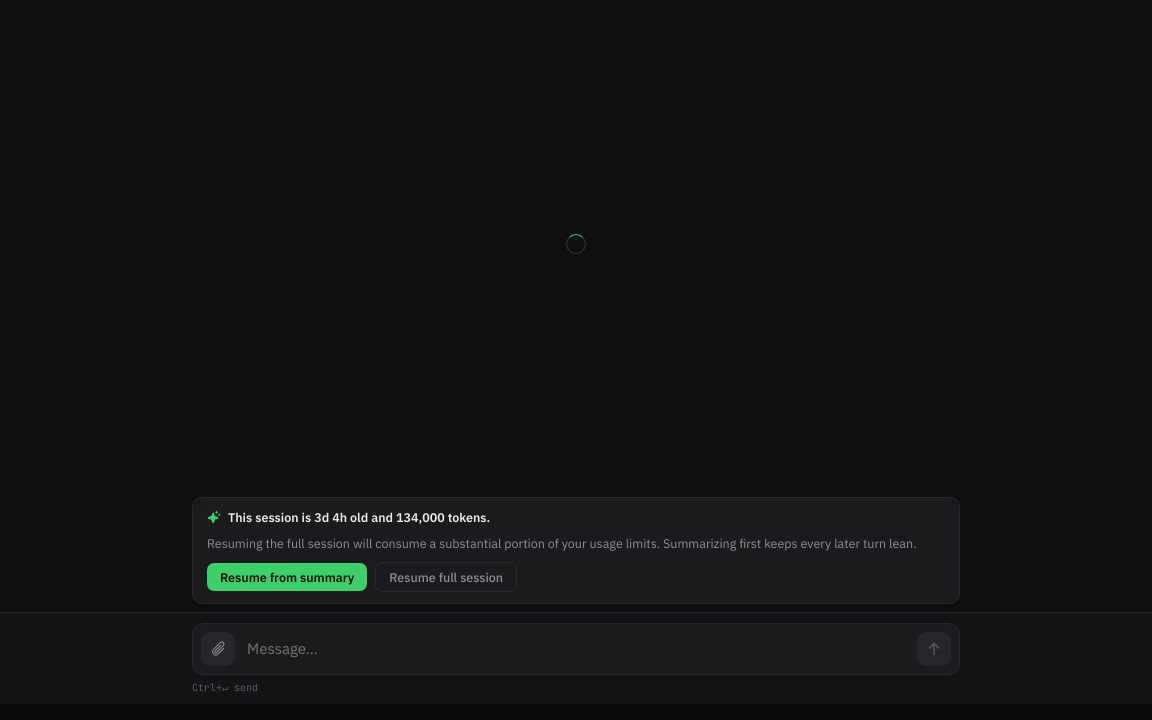
ChatView — resume-from-summary advice › surfaces a visible error when compactTerminal rejects (no live structured session)
The width and height of the screenshot is (1152, 720).
What coordinates should you click on to do the following:
click the button "Resume from summary"
I would click on:
 (287, 577)
Its box is [207, 563, 367, 591].
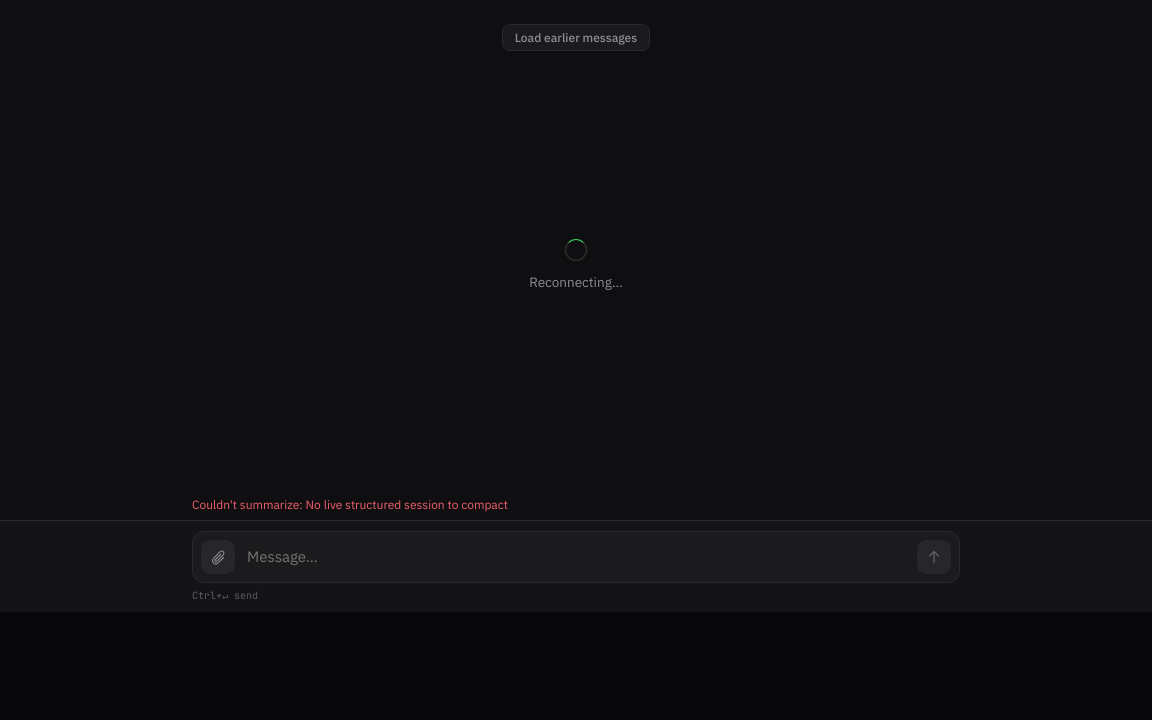
Expected: the text "Couldn't summarize: No live structured session to compact" is shown, [192, 497, 508, 512]
